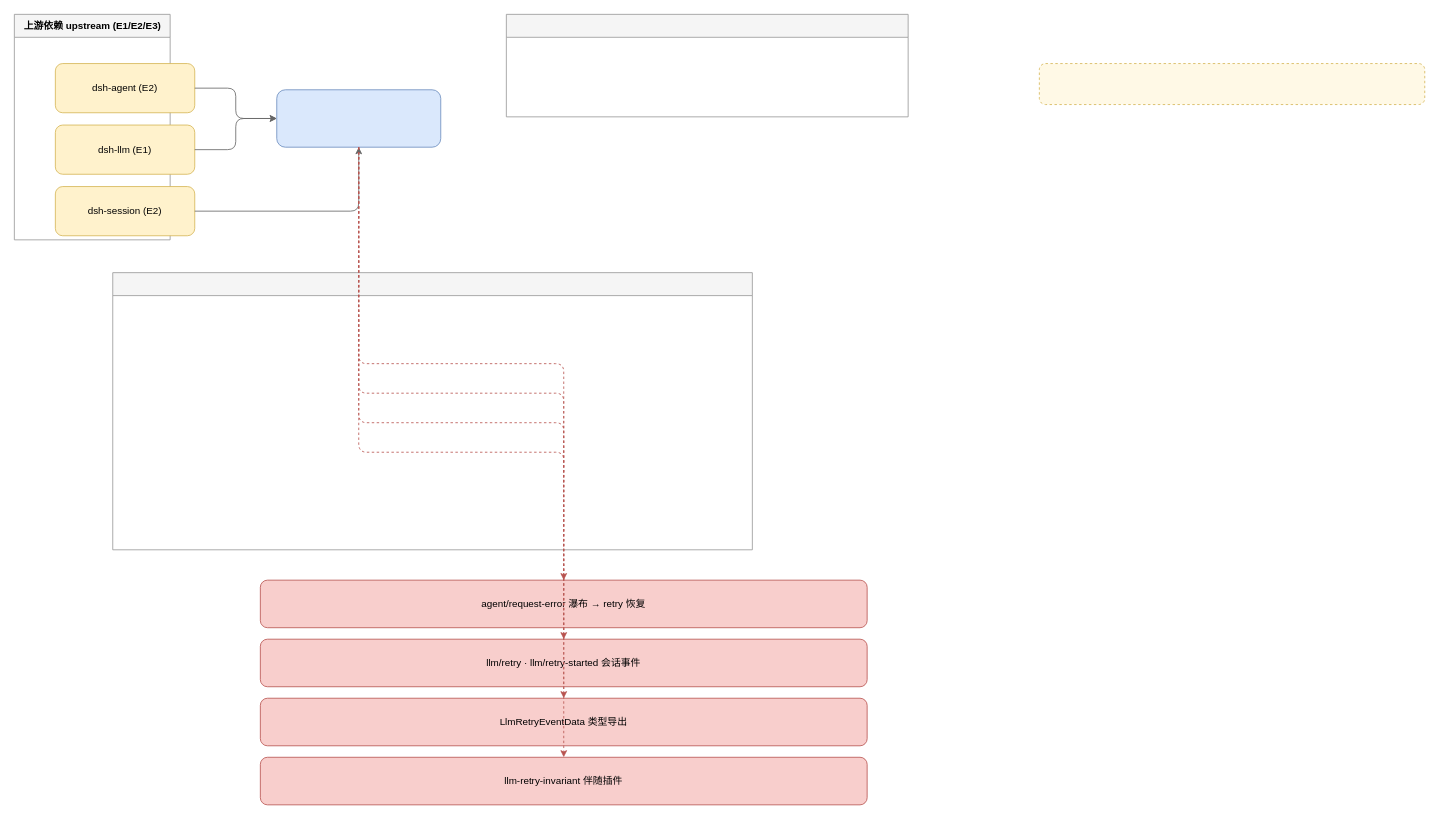
The diagram is 1439 pixels wide and 819 high, and some of its shapes have lost their labels. Here are the shapes that lost their labels. From the top down, the centre of each, then its label:
At (707,65): "下游被依赖 dependents".
At (1232,84): "(无被依赖)".
At (358,118): "@deepseek-ai/dsh-llm-retry".
At (432,411): "提供服务 provides（关键项）".
